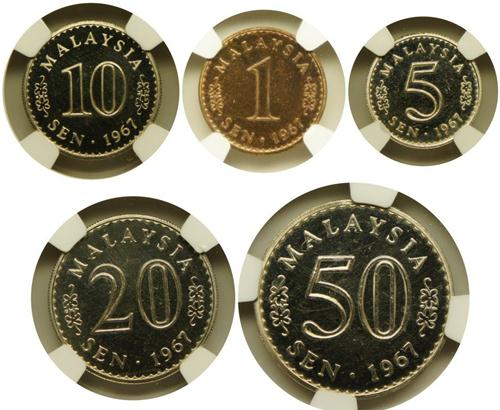10: (20, 21, 163, 159)
1c: (198, 28, 329, 153)
20: (49, 213, 216, 385)
5: (365, 32, 482, 148)
50: (254, 197, 453, 398)
